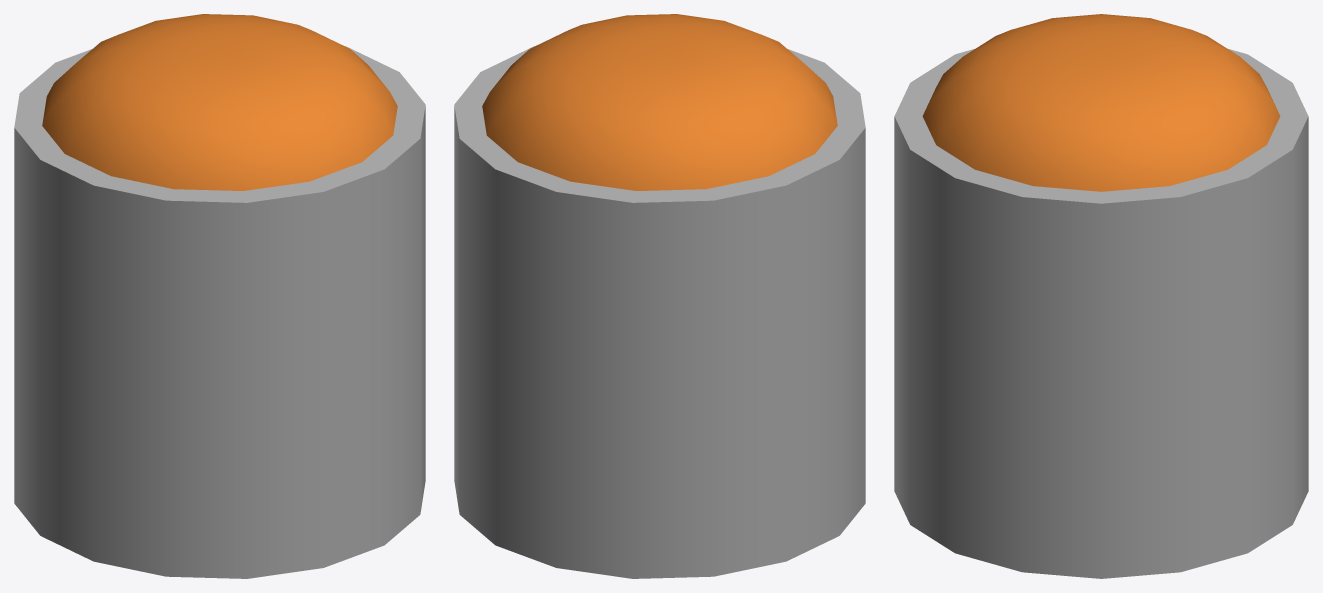
File: Rocket Tank.fbx
3 renders of one model, left to right at view 1: azimuth 30°, elevation 25°; view 2: azimuth 150°, elevation 25°; view 3: azimuth 270°, elevation 25°, orthographic.
Visible parts, largest first — view 1: Rocket Tank; view 2: Rocket Tank; view 3: Rocket Tank.
Boxes of the visible parts, left/top/right/bottom form: Rocket Tank: left=14, top=14, right=425, bottom=578; Rocket Tank: left=454, top=14, right=865, bottom=578; Rocket Tank: left=894, top=14, right=1308, bottom=578.
Size of the model in its own units: 2 by 2.35 by 2.
